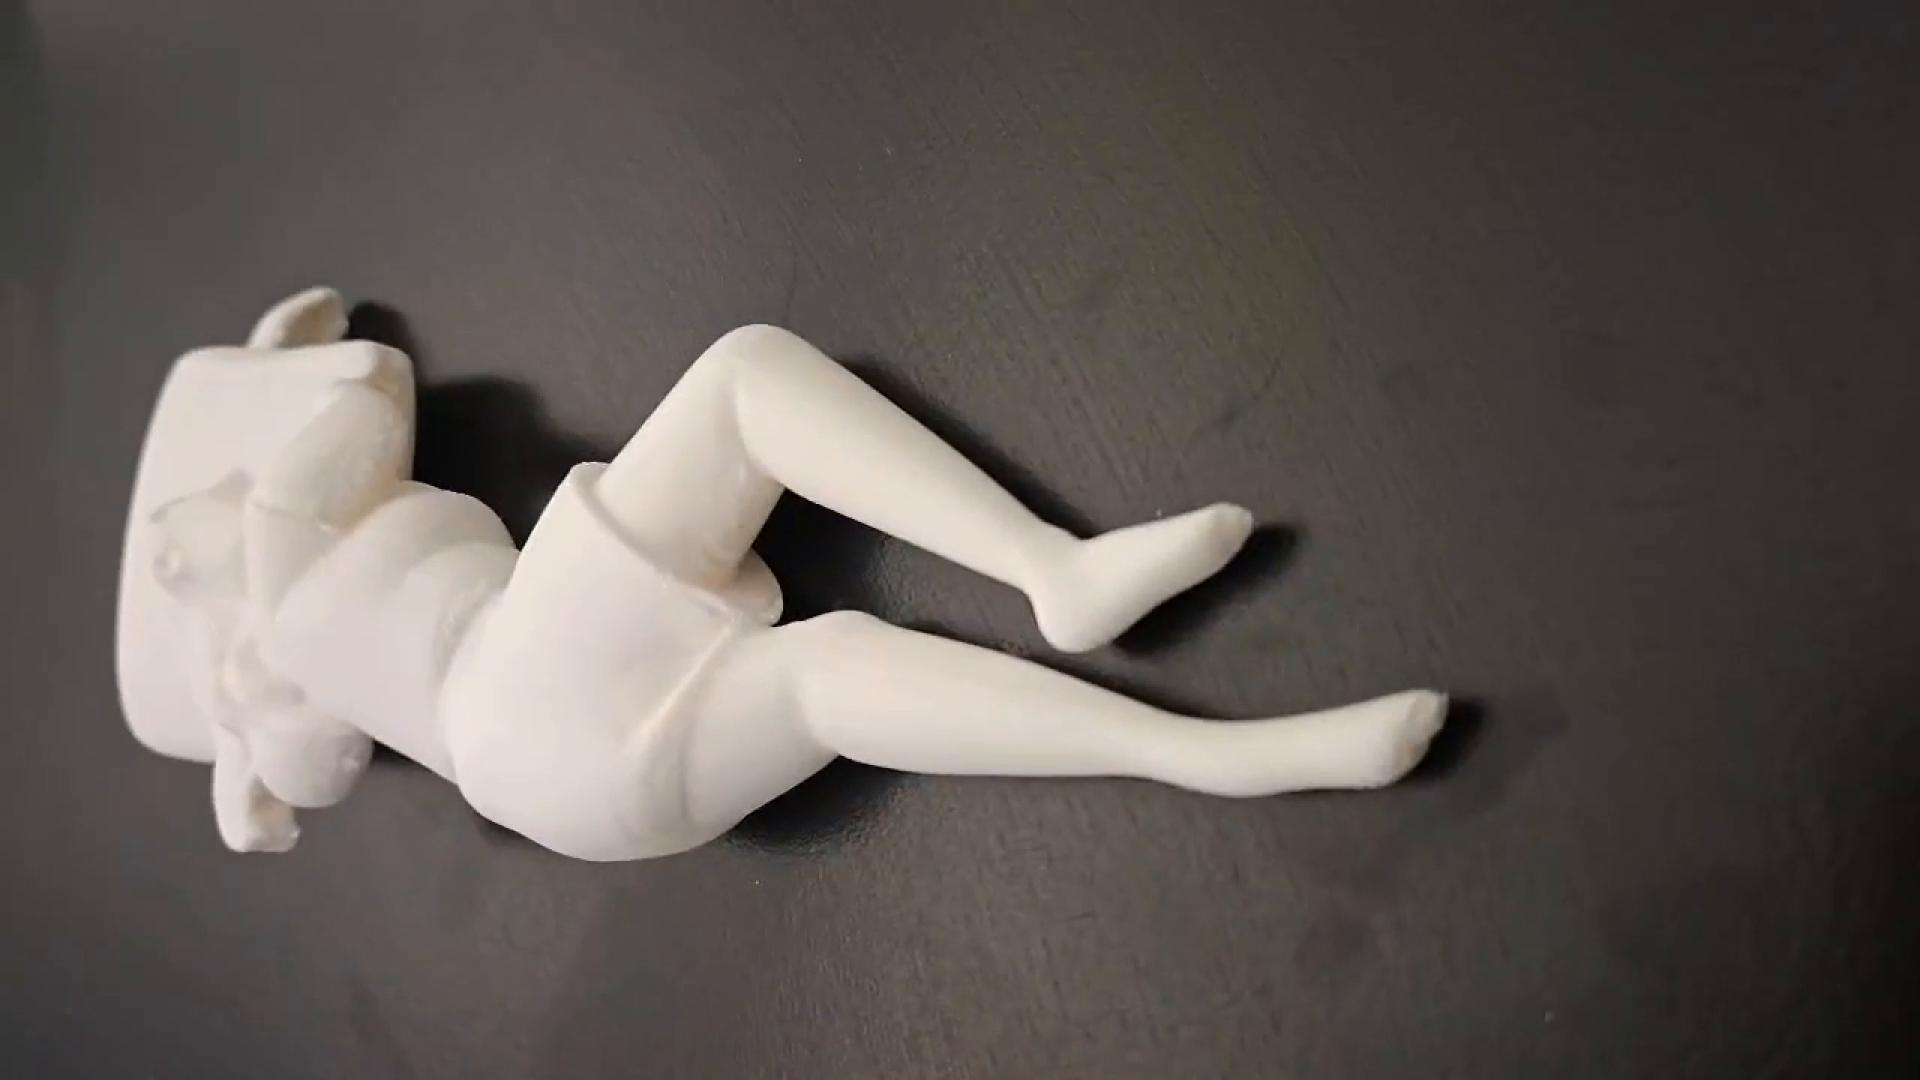Good-style: (112, 281, 1480, 870)
